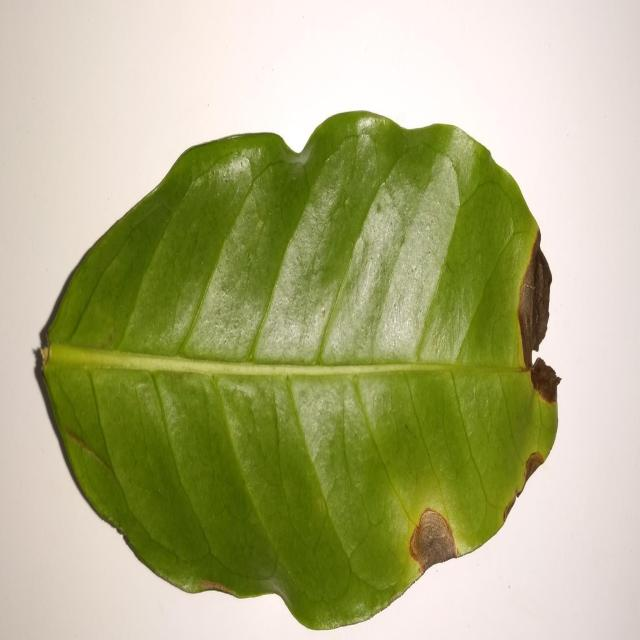phoma: (518, 229, 561, 402), (409, 508, 459, 575), (503, 452, 545, 524)
